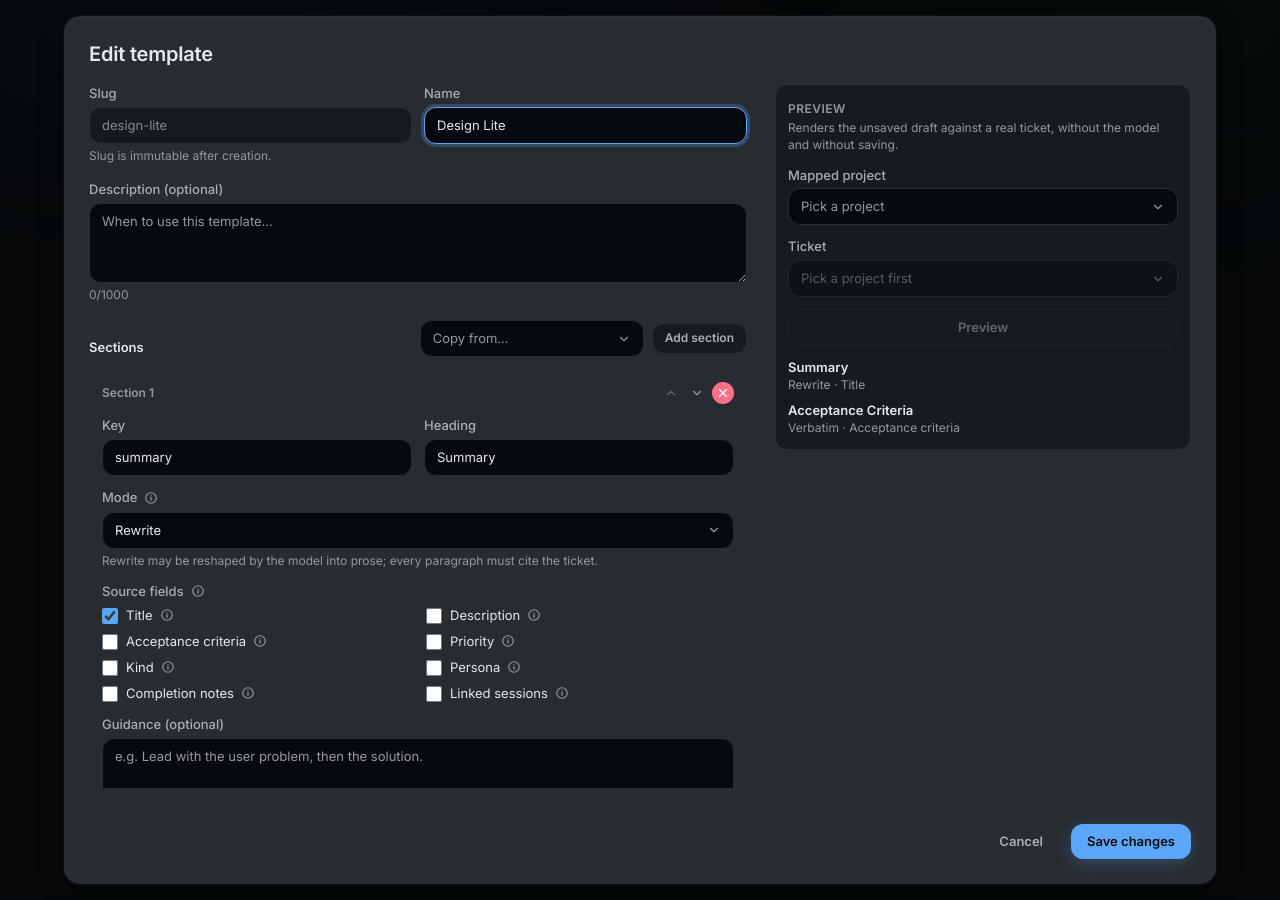
Test: TemplateEditorDialog › sends expected_version on save and explains a version conflict
Click the button "Save changes" at (1131, 842), box [1071,824,1191,859]
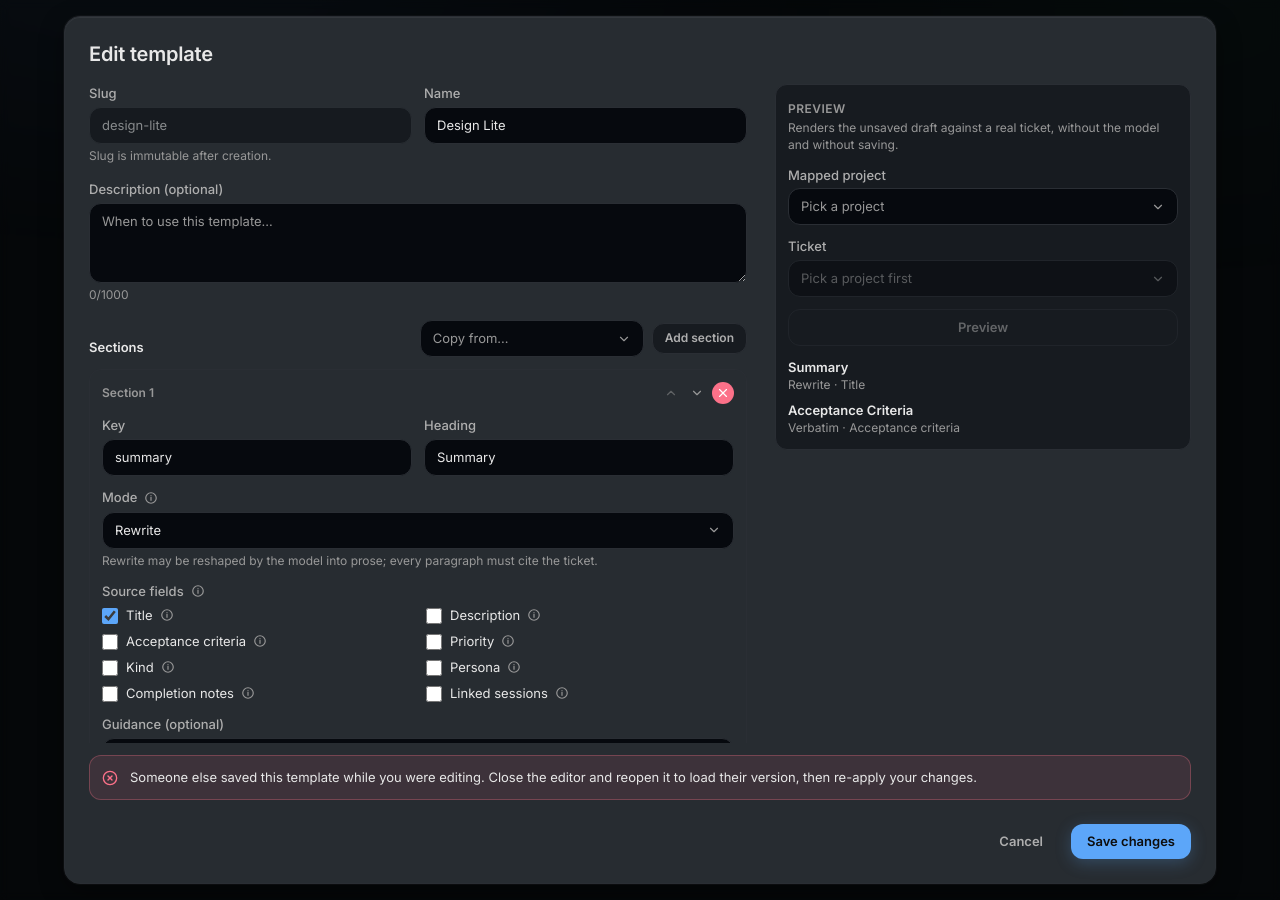
Expected: the text "Someone else saved this template" is shown, [130,769,977,785]
